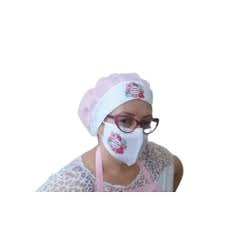with_mask_and_cap: (88, 75, 152, 167)
